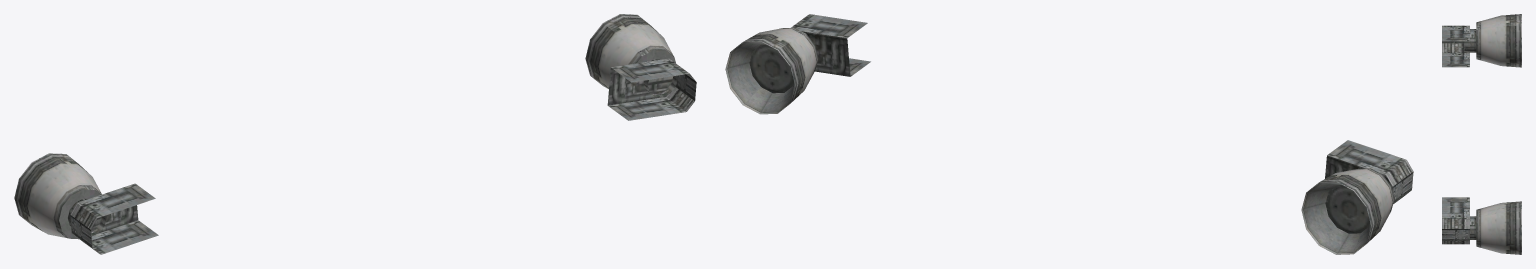
The model's file is ykl37r_booster_s01_l0.fbx.
The picture shows the model from 3 angles, left to right: view 1: azimuth 30°, elevation 25°; view 2: azimuth 150°, elevation 25°; view 3: azimuth 270°, elevation 25°; orthographic projection. The views are drawn at different scales.
Parts seen in each view (by area): view 1: mesh_node; view 2: mesh_node; view 3: mesh_node.
Boxes of the visible parts, left/top/right/bottom form: mesh_node: left=14, top=14, right=696, bottom=254; mesh_node: left=725, top=14, right=1413, bottom=254; mesh_node: left=1442, top=14, right=1521, bottom=254.
Size of the model in its own units: 17.77 by 1.92 by 2.85.
